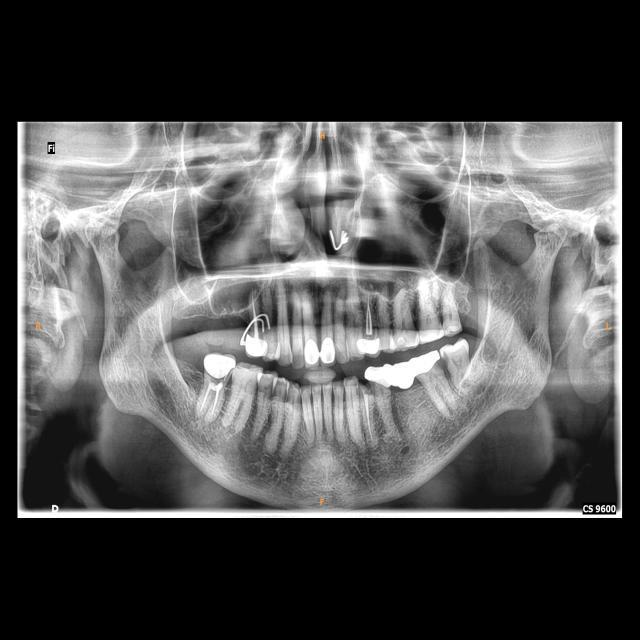dolgu: (418, 327, 450, 343)
kanal-tedavisi: (193, 380, 226, 420), (359, 392, 376, 442), (249, 287, 263, 341), (363, 286, 375, 338)
kaplama: (200, 350, 236, 385), (360, 362, 396, 388), (354, 336, 385, 358), (409, 354, 442, 374), (244, 334, 268, 360), (302, 336, 322, 364), (318, 336, 337, 365)
kirik: (350, 376, 378, 402)
kopru: (383, 362, 435, 399)
